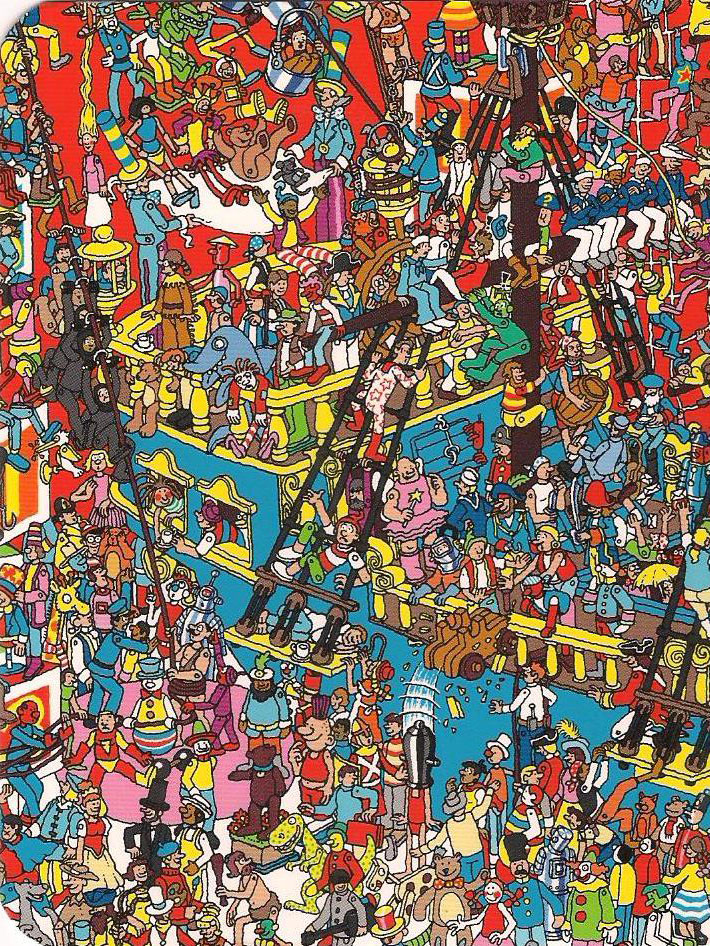waldo: (81, 520, 104, 557)
